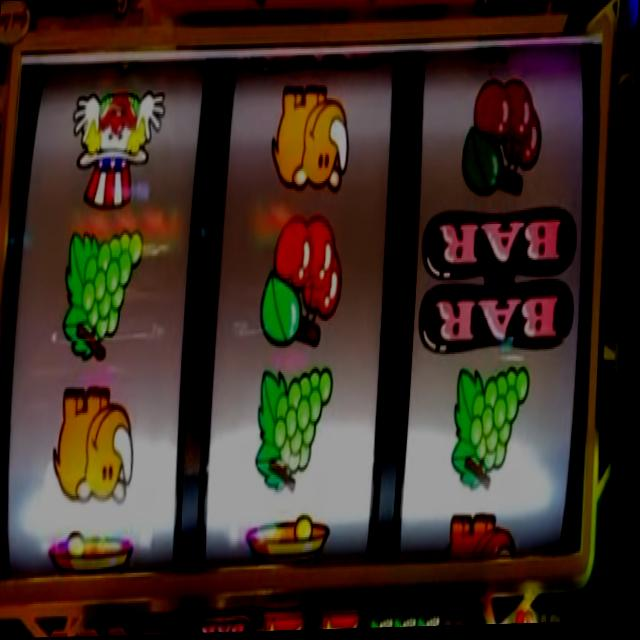bar: (421, 202, 582, 357)
bell: (251, 517, 338, 573), (54, 529, 139, 585)
cherry: (263, 218, 348, 350), (462, 76, 546, 200)
clown: (70, 90, 167, 208)
display: (0, 38, 617, 587)
elephant: (54, 384, 144, 510), (268, 84, 353, 199), (449, 513, 523, 562)
grape: (63, 220, 145, 361), (259, 364, 339, 497), (455, 365, 534, 493)
